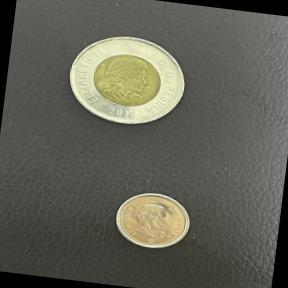Canada-10cent-B: (103, 184, 200, 260)
Canada-2Dollar-B: (56, 25, 197, 137)
